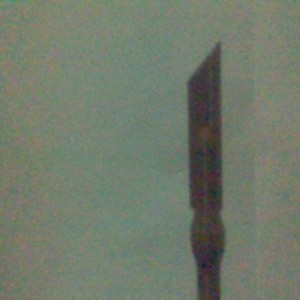cutter: (187, 38, 227, 300)
